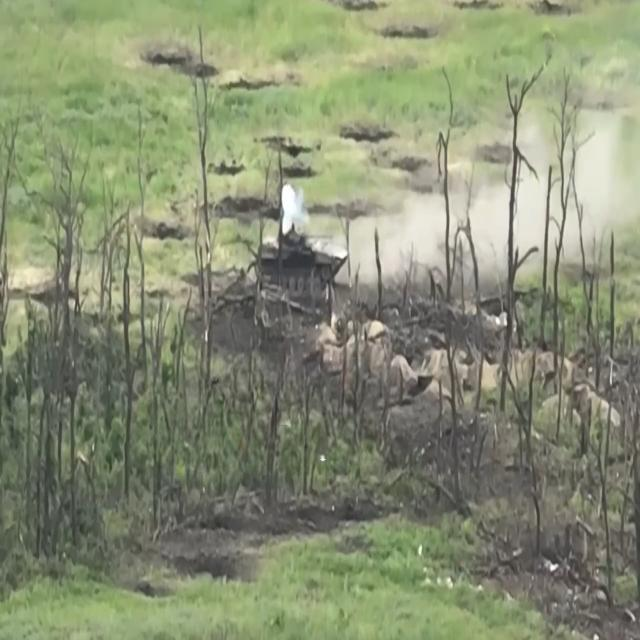AIFV: (257, 224, 351, 288)
